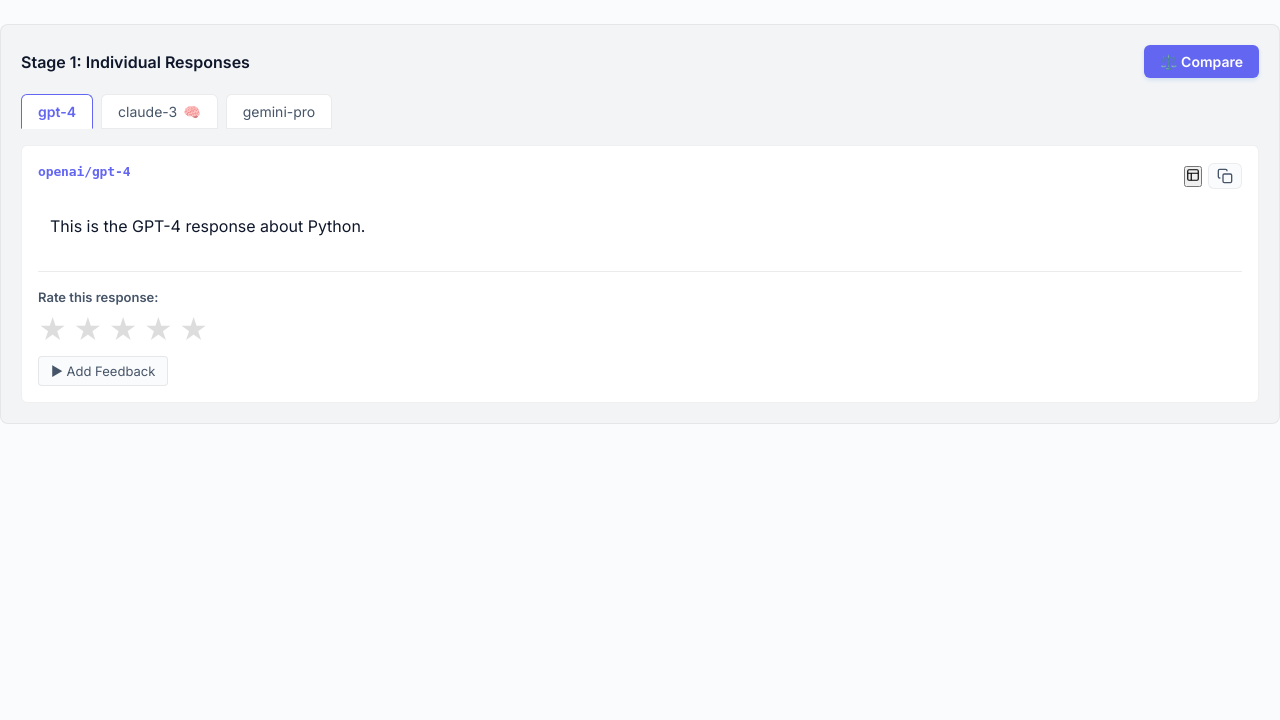
Test: Stage1 › Rating system › shows feedback textarea when toggle is clicked
The width and height of the screenshot is (1280, 720).
Click the button "▶ Add Feedback" at (103,371), box [38,356,168,386]
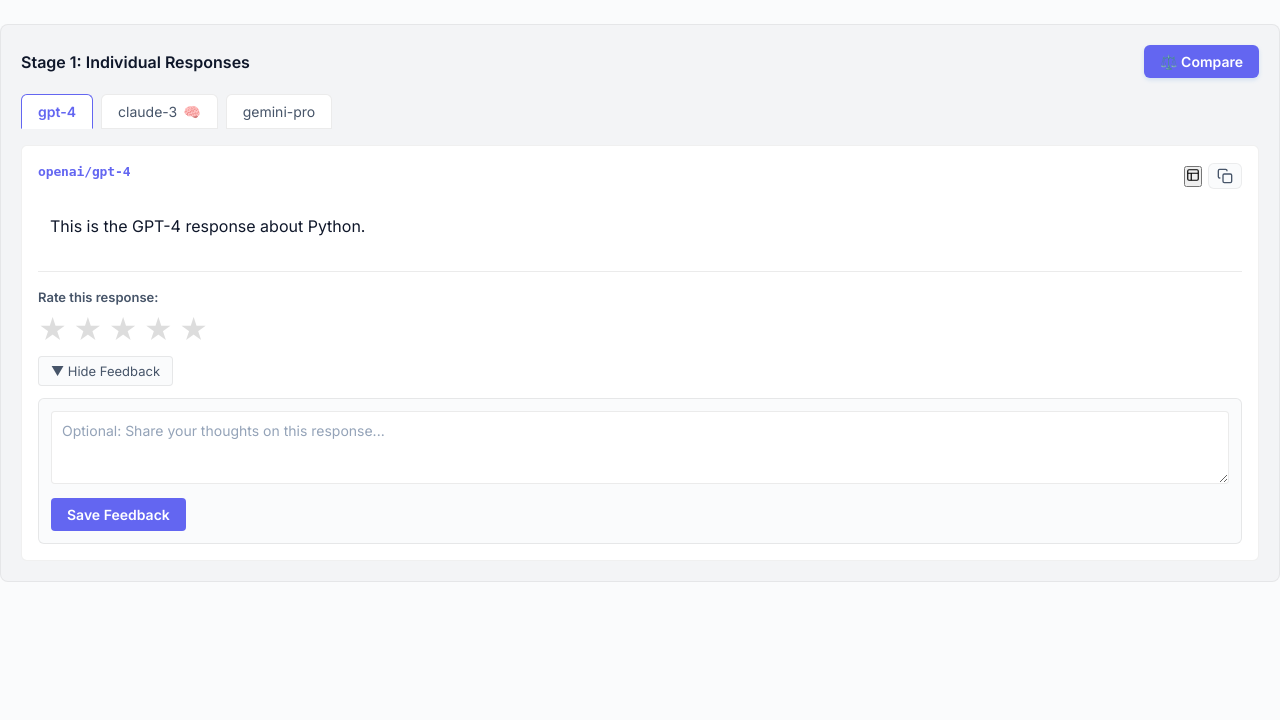
Expected: the text box with placeholder "Optional: Share your thoughts on this response..." is shown, [51,411,1229,484]
Expected: the button "Save Feedback" is shown, [51,498,186,531]
